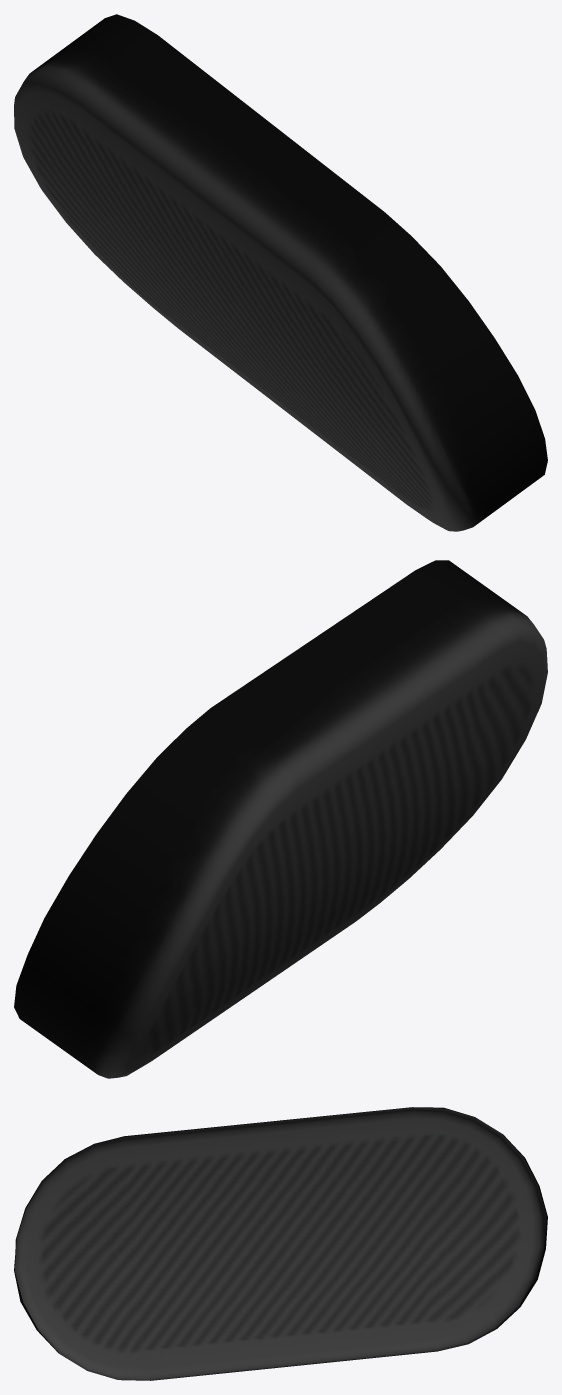
Rendered from vive_l_grip.fbx.
3 renders of one model, top to bottom at view 1: azimuth 30°, elevation 25°; view 2: azimuth 150°, elevation 25°; view 3: azimuth 270°, elevation 25°, orthographic. The views are drawn at different scales.
Visible parts, largest first — view 1: l_gripper group1; view 2: l_gripper group1; view 3: l_gripper group1.
Part boxes in pixels (bbox=[...]): l_gripper group1: bbox=[14, 14, 547, 531]; l_gripper group1: bbox=[14, 560, 547, 1078]; l_gripper group1: bbox=[14, 1107, 547, 1380].
Size of the model in its own units: 1.01 by 1.51 by 2.96.
Materials: 1 (1 with a texture image).
